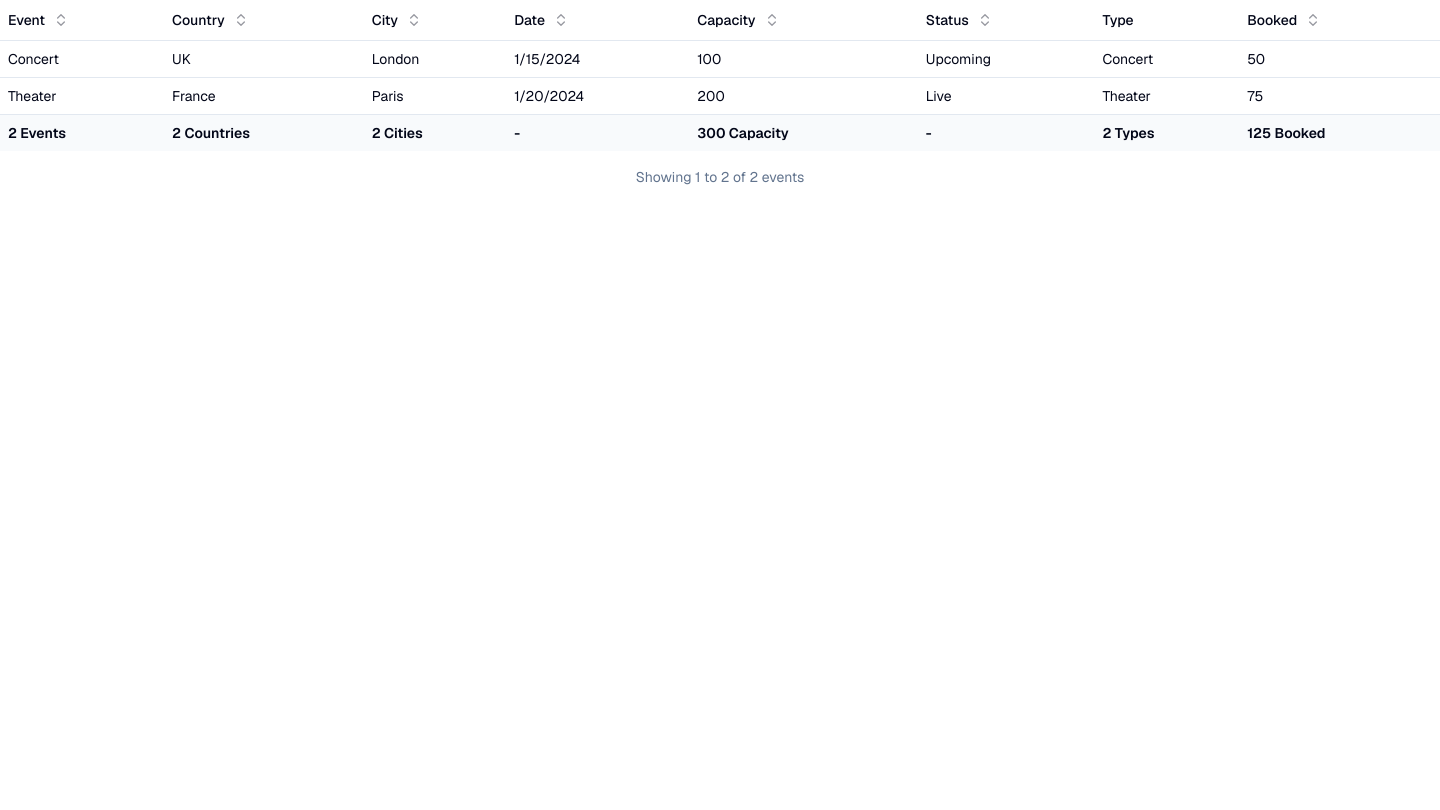
Scenario: TableComponent › Row Interaction › opens modal when a row is clicked
This screenshot has width=1440, height=810.
Click the row "Concert UK London 1/15/2024 100 upcoming Concert 50".
click(720, 58)  # box [0,40,1439,77]
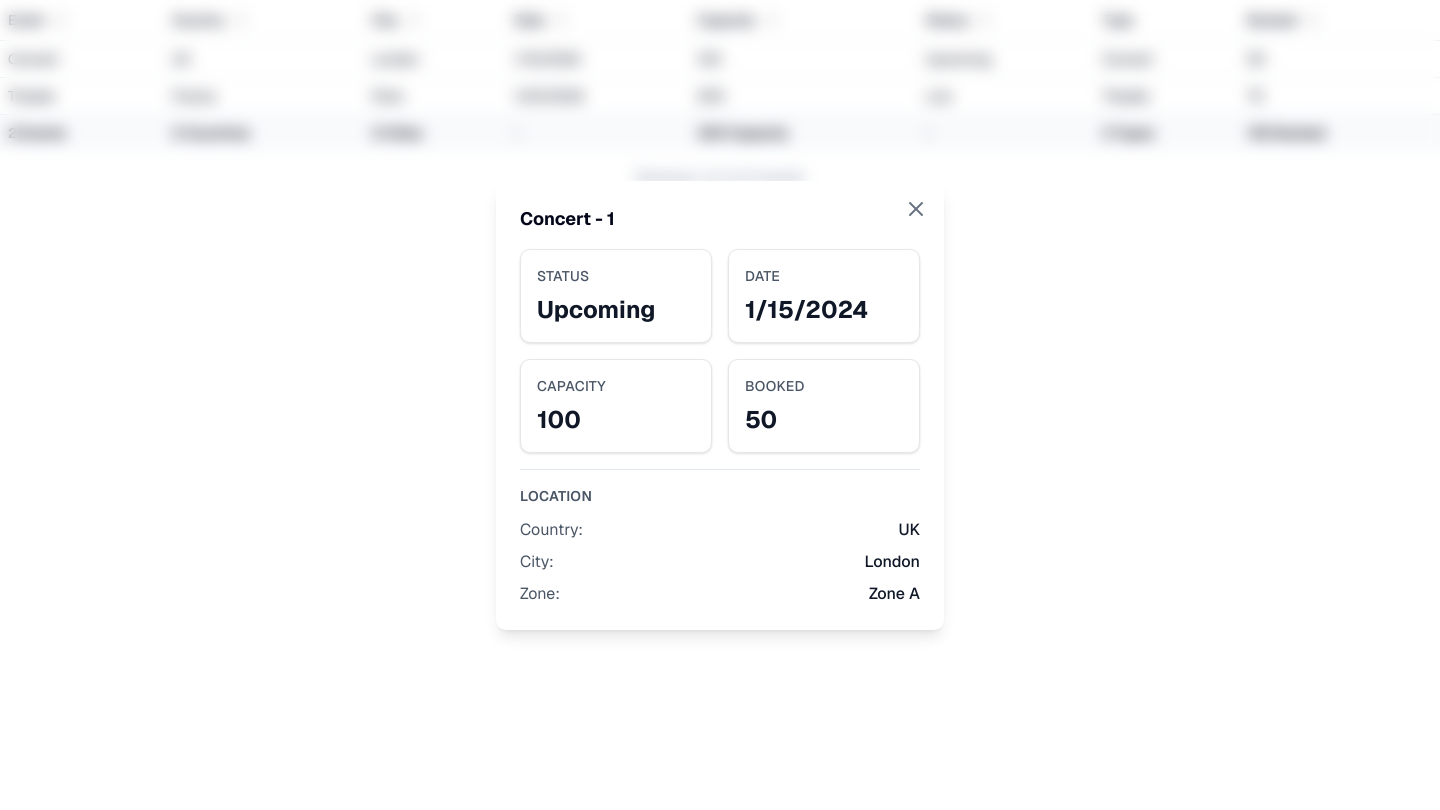
Result: the heading "Concert - 1" is shown at [520,206,615,230]
